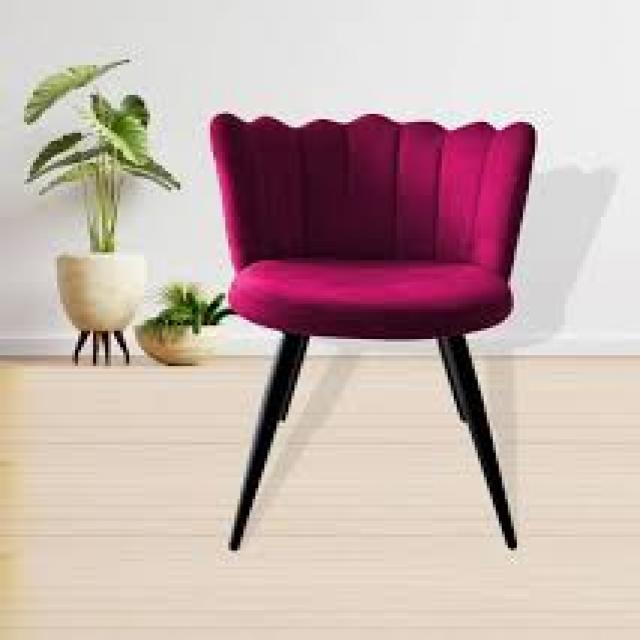chair: (203, 106, 538, 557)
